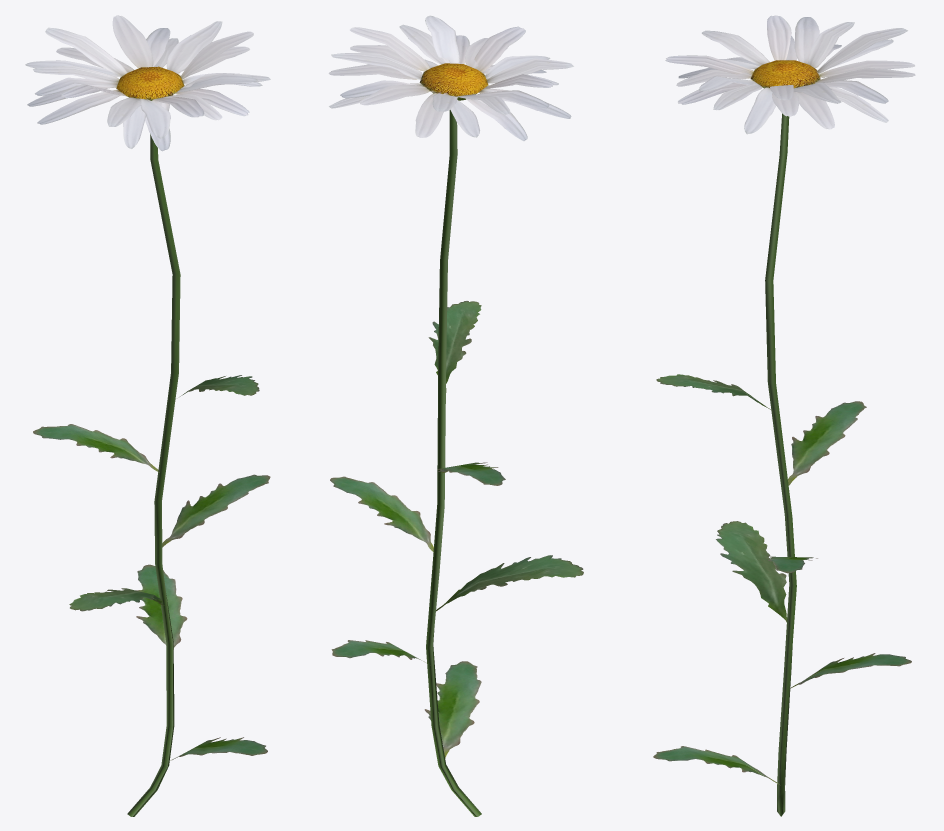
Rendered from Daisy1bloomer.fbx.
3 renders of one model, left to right at view 1: azimuth 30°, elevation 25°; view 2: azimuth 150°, elevation 25°; view 3: azimuth 270°, elevation 25°, orthographic. The views are drawn at different scales.
Parts seen in each view (by area): view 1: Daisy1bloomer; view 2: Daisy1bloomer; view 3: Daisy1bloomer.
Boxes of the visible parts, box(x1,y1,x2,y2) form: Daisy1bloomer: box(25, 15, 270, 816); Daisy1bloomer: box(328, 15, 583, 816); Daisy1bloomer: box(653, 15, 915, 816).
Size of the model in its own units: 23.71 by 65.48 by 22.55.
